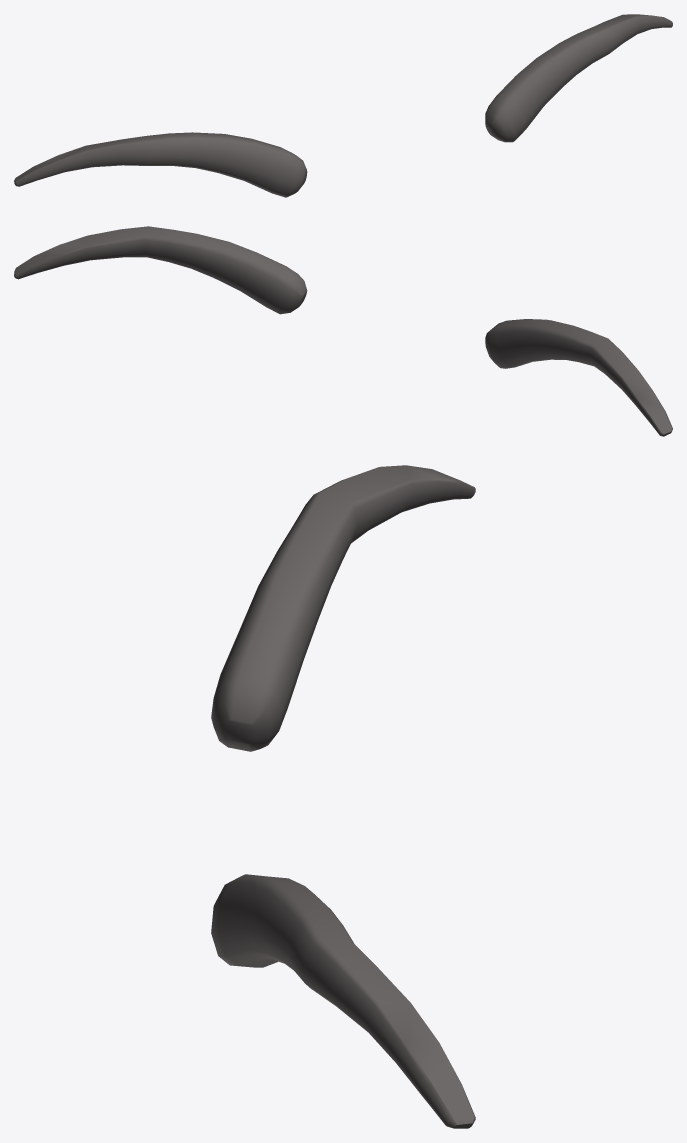
Rendered from Eyebrows_30_04.fbx.
3 renders of one model, top to bottom at view 1: azimuth 30°, elevation 25°; view 2: azimuth 150°, elevation 25°; view 3: azimuth 270°, elevation 25°, orthographic. The views are drawn at different scales.
Visible parts, largest first — view 1: Eyebrows_30_04; view 2: Eyebrows_30_04; view 3: Eyebrows_30_04.
Part boxes in pixels (<box>): Eyebrows_30_04: <box>14,14,672,197</box>; Eyebrows_30_04: <box>14,226,672,436</box>; Eyebrows_30_04: <box>211,465,475,1128</box>.
Bounding box in the file's own units: 19.88 × 2.07 × 3.47.
